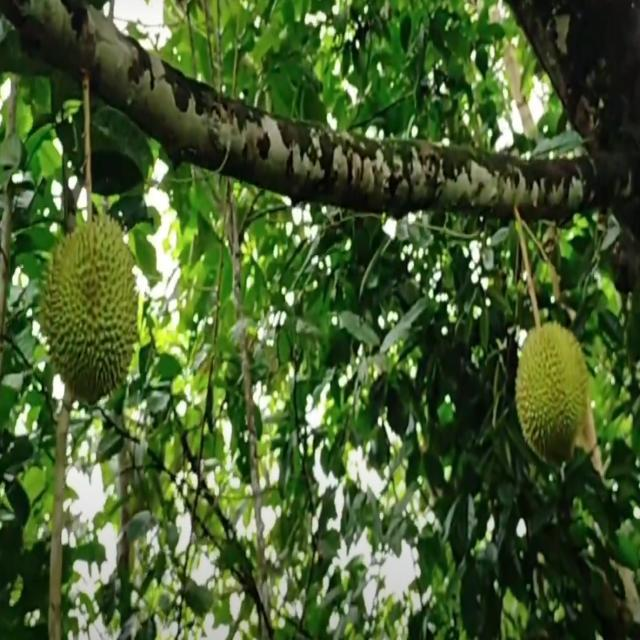immature: (45, 210, 141, 404), (514, 316, 590, 480)
